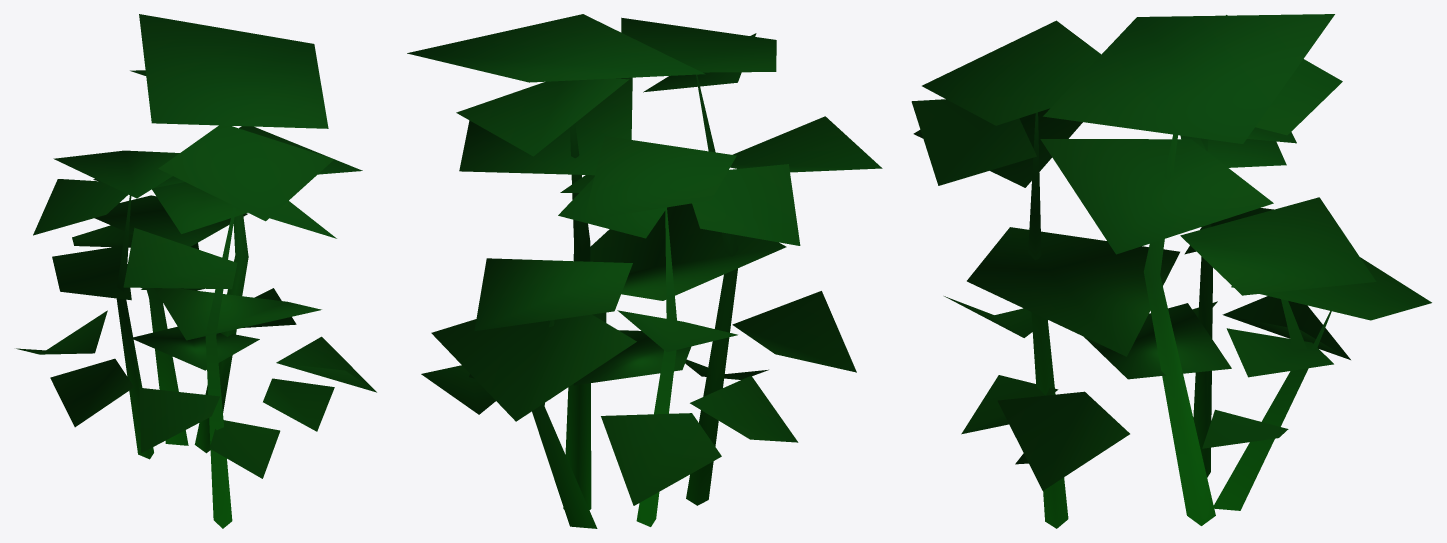
File: env_nature_foliage_padplant02_lod1.fbx
3 views of the same model, side by side, from view 1: azimuth 30°, elevation 25°; view 2: azimuth 150°, elevation 25°; view 3: azimuth 270°, elevation 25° (orthographic). The views are drawn at different scales.
Parts seen in each view (by area): view 1: env_nature_foliage_padplant02_lod1; view 2: env_nature_foliage_padplant02_lod1; view 3: env_nature_foliage_padplant02_lod1.
Boxes of the visible parts, x1,y1,x2,y2 form: env_nature_foliage_padplant02_lod1: (16,14,376,528); env_nature_foliage_padplant02_lod1: (407,14,882,528); env_nature_foliage_padplant02_lod1: (911,14,1431,528).
Size of the model in its own units: 8.28 by 10.99 by 9.85.
